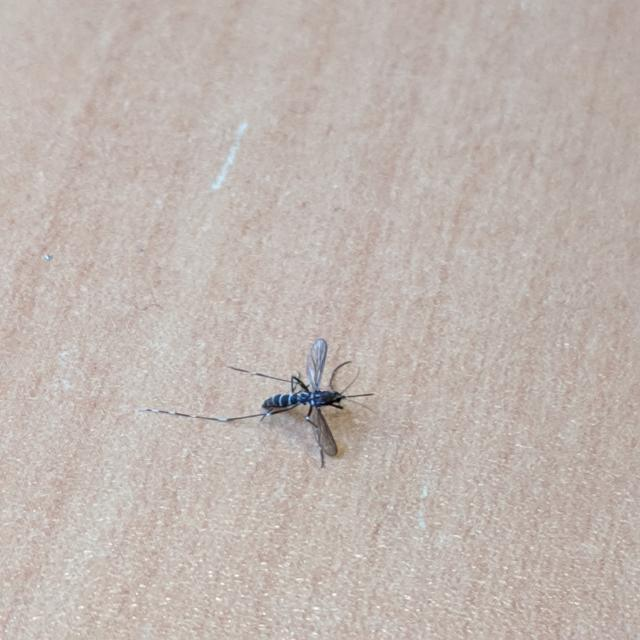albopictus: (147, 328, 384, 477)
